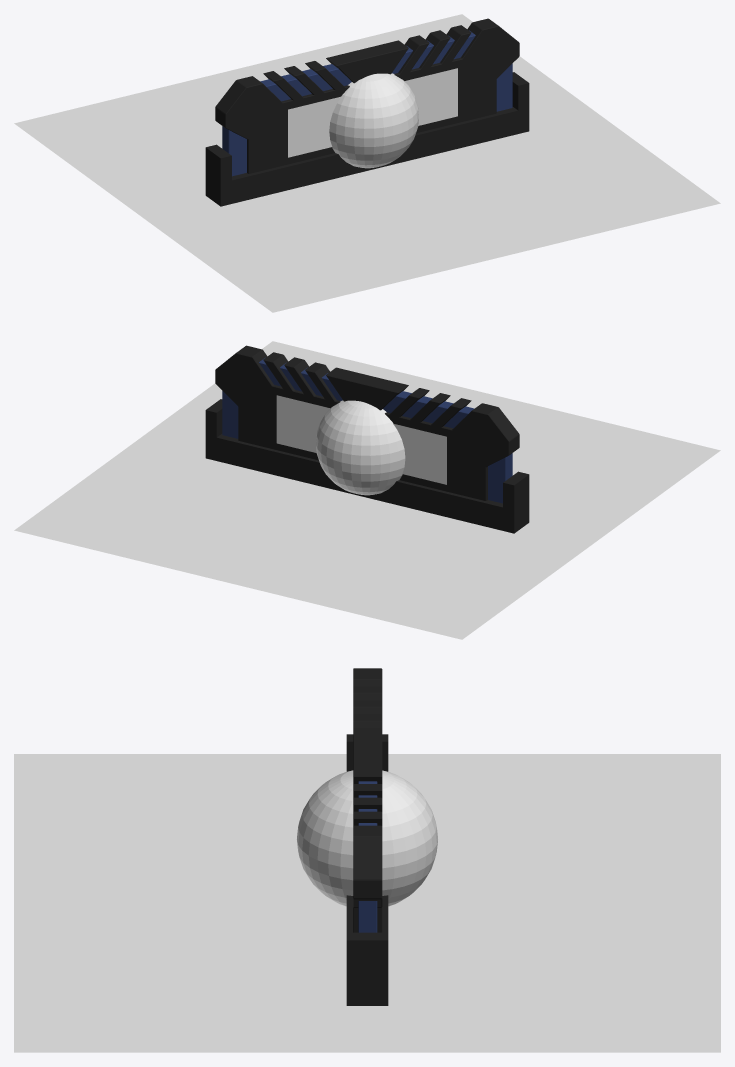
Rendered from ram_wall.fbx.
The picture shows the model from 3 angles, top to bottom: view 1: azimuth 30°, elevation 25°; view 2: azimuth 150°, elevation 25°; view 3: azimuth 270°, elevation 25°; orthographic projection. The views are drawn at different scales.
Visible parts, largest first — view 1: Plane, RAM, ram holder, Sphere; view 2: Plane, RAM, ram holder, Sphere; view 3: Plane, Sphere, RAM, ram holder.
Boxes of the visible parts, x1,y1,x2,y2 form: Plane: [14, 14, 720, 312]; RAM: [215, 18, 519, 176]; ram holder: [205, 72, 529, 206]; Sphere: [329, 73, 418, 168]; Plane: [14, 341, 720, 639]; RAM: [215, 345, 519, 503]; ram holder: [205, 399, 529, 533]; Sphere: [316, 400, 405, 495]; Plane: [14, 754, 720, 1052]; Sphere: [297, 770, 437, 906]; RAM: [353, 668, 382, 932]; ram holder: [346, 734, 388, 1005].
Bounding box in the file's own units: 100 × 23.56 × 100.
